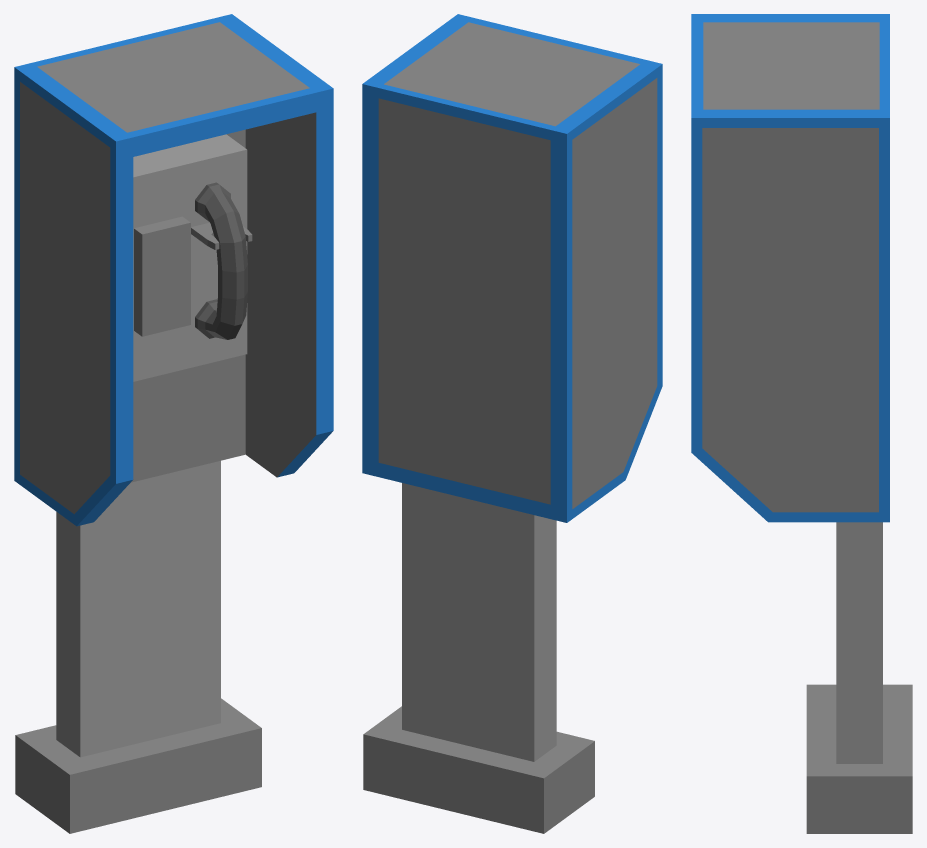
Rendered from phone booth2.fbx.
3 renders of one model, left to right at view 1: azimuth 30°, elevation 25°; view 2: azimuth 150°, elevation 25°; view 3: azimuth 270°, elevation 25°, orthographic. The views are drawn at different scales.
Visible parts, largest first — view 1: Cube, Cube.001; view 2: Cube; view 3: Cube.
Boxes of the visible parts, x1,y1,x2,y2 form: Cube: (14, 14, 333, 833); Cube.001: (195, 182, 247, 339); Cube: (362, 14, 662, 833); Cube: (691, 14, 912, 833).
Size of the model in its own units: 231 by 750 by 209.
